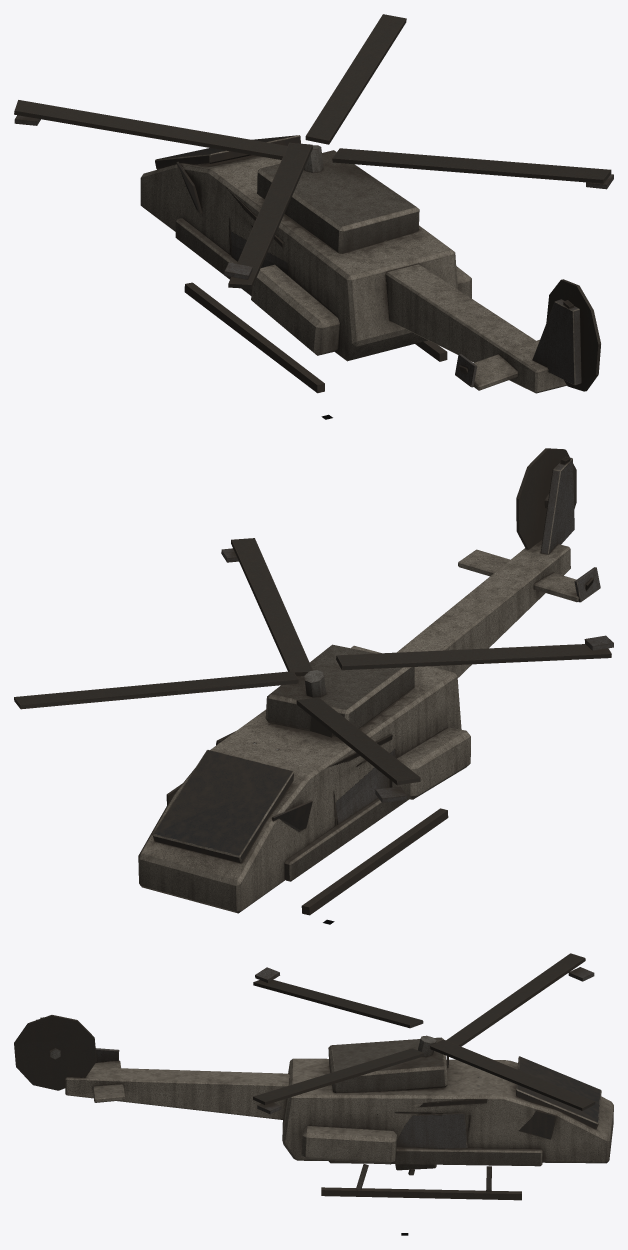
Rendered from ord_courier_wreck.fbx.
3 views of the same model, one above another, from view 1: azimuth 30°, elevation 25°; view 2: azimuth 150°, elevation 25°; view 3: azimuth 270°, elevation 25° (orthographic). The views are drawn at different scales.
Visible parts, largest first — view 1: base_bar, rotor_bar, tailRotor_bar; view 2: base_bar, rotor_bar, tailRotor_bar; view 3: base_bar, rotor_bar, tailRotor_bar.
Boxes of the visible parts, x1,y1,x2,y2 form: base_bar: (140,135,581,393); rotor_bar: (14,14,613,288); tailRotor_bar: (546,279,600,391); base_bar: (138,456,600,915); rotor_bar: (14,538,613,802); tailRotor_bar: (516,448,576,549); base_bar: (36,1017,613,1200); rotor_bar: (253,953,595,1114); tailRotor_bar: (14,1015,96,1090).
Size of the model in its own units: 1033 by 738 by 1784.
Materials: 2 (2 with a texture image).
